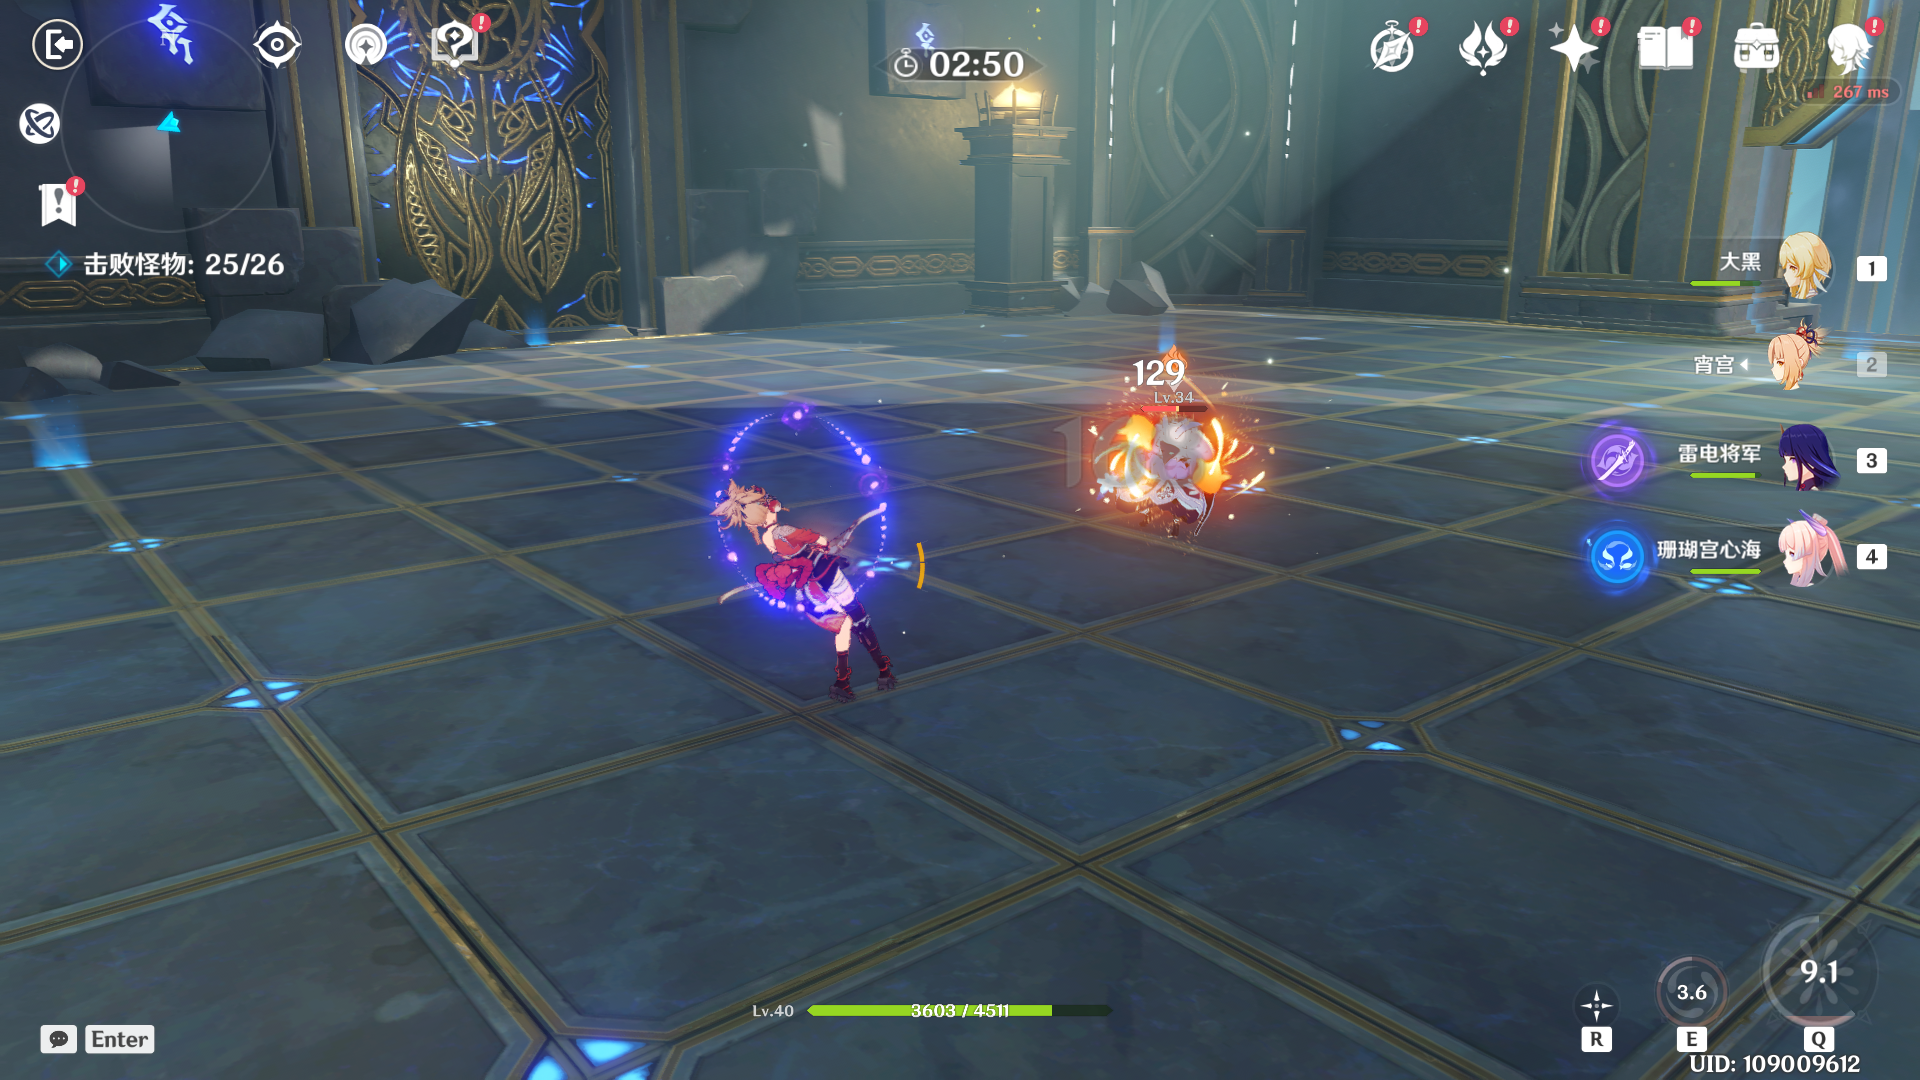caster: (1058, 364, 1259, 564)
character: (691, 460, 957, 731)
